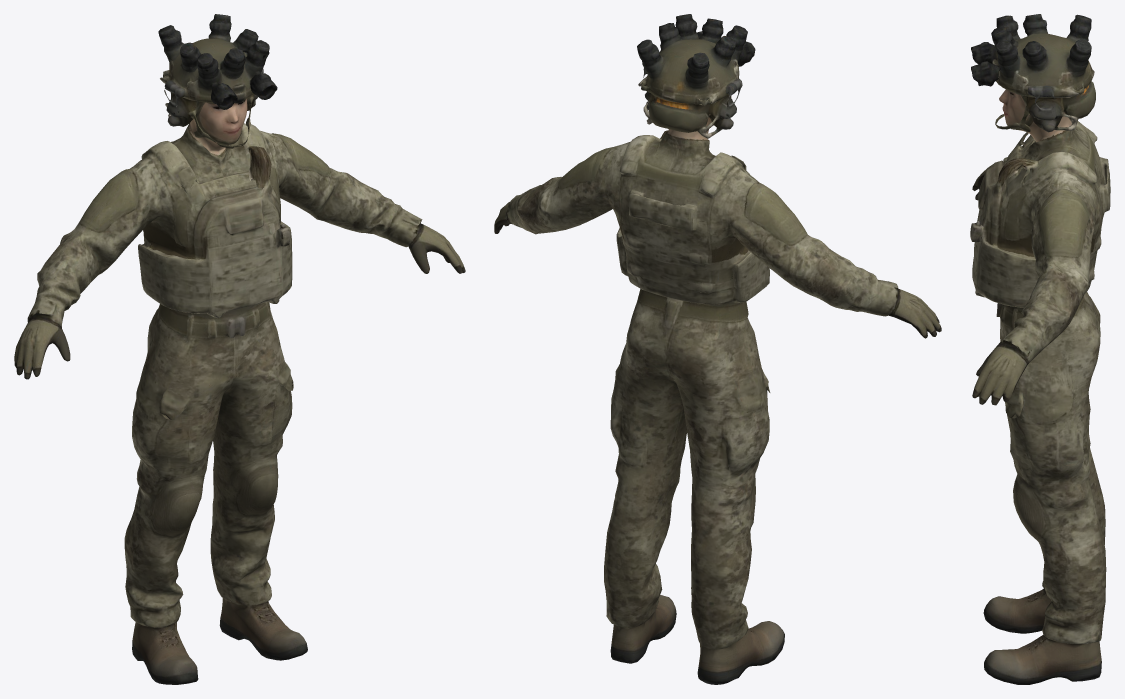
File: sol_ally2.glb
3 renders of one model, left to right at view 1: azimuth 30°, elevation 25°; view 2: azimuth 150°, elevation 25°; view 3: azimuth 270°, elevation 25°, orthographic.
Size of the model in its own units: 0.7422 by 1 by 0.2037.
Materials: 1 (1 with a texture image).
